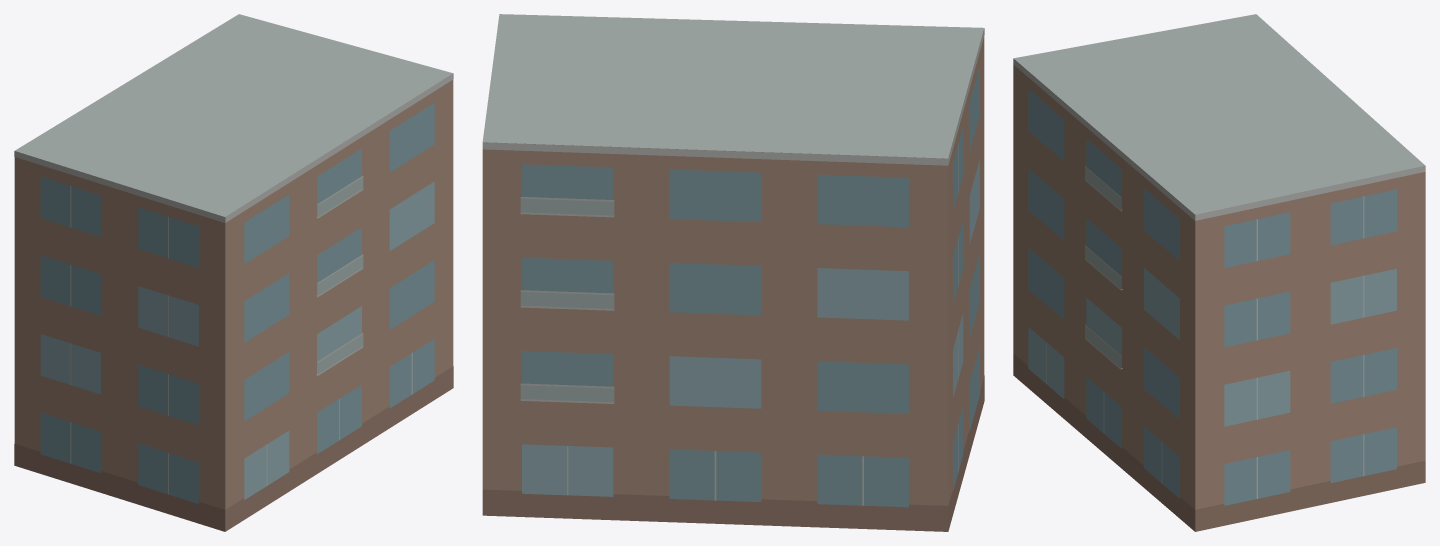
File: survey-upis-32744035.glb
The picture shows the model from 3 angles, left to right: view 1: azimuth 30°, elevation 25°; view 2: azimuth 150°, elevation 25°; view 3: azimuth 270°, elevation 25°; orthographic projection. The views are drawn at different scales.
Visible parts, largest first — view 1: survey-upis-32744035.tmp; view 2: survey-upis-32744035.tmp; view 3: survey-upis-32744035.tmp.
Part boxes in pixels (x1=…): survey-upis-32744035.tmp: x1=14, y1=14, x2=453, y2=531; survey-upis-32744035.tmp: x1=482, y1=14, x2=984, y2=531; survey-upis-32744035.tmp: x1=1013, y1=14, x2=1425, y2=531.
Bounding box in the file's own units: 17.4 × 12.8 × 15.09.
